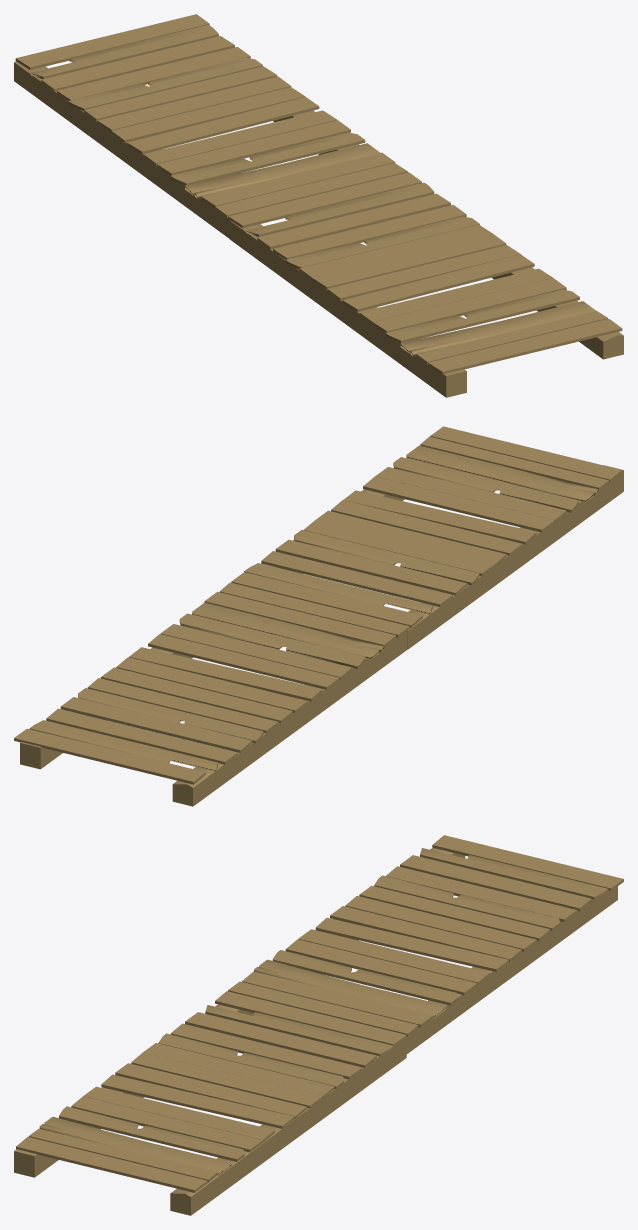
File: Road_Beam_Simple_01.fbx
3 renders of one model, top to bottom at view 1: azimuth 30°, elevation 25°; view 2: azimuth 150°, elevation 25°; view 3: azimuth 330°, elevation 25°, orthographic.
Visible parts, largest first — view 1: Road_Beam_Simple_01; view 2: Road_Beam_Simple_01; view 3: Road_Beam_Simple_01.
Boxes of the visible parts, left/top/right/bottom form: Road_Beam_Simple_01: left=14, top=14, right=623, bottom=397; Road_Beam_Simple_01: left=14, top=426, right=623, bottom=806; Road_Beam_Simple_01: left=14, top=835, right=623, bottom=1215.
Bounding box in the file's own units: 148 × 18.81 × 599.
